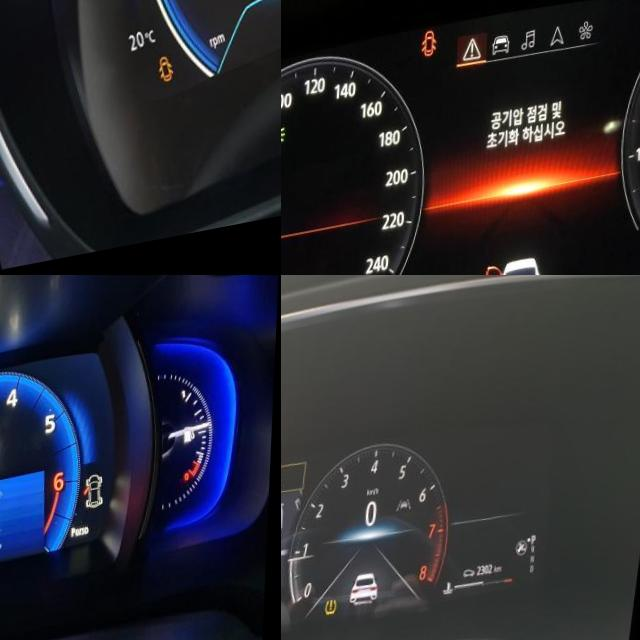Doors: (157, 59, 179, 94), (422, 38, 439, 68)
SideLamp: (281, 127, 288, 150)
